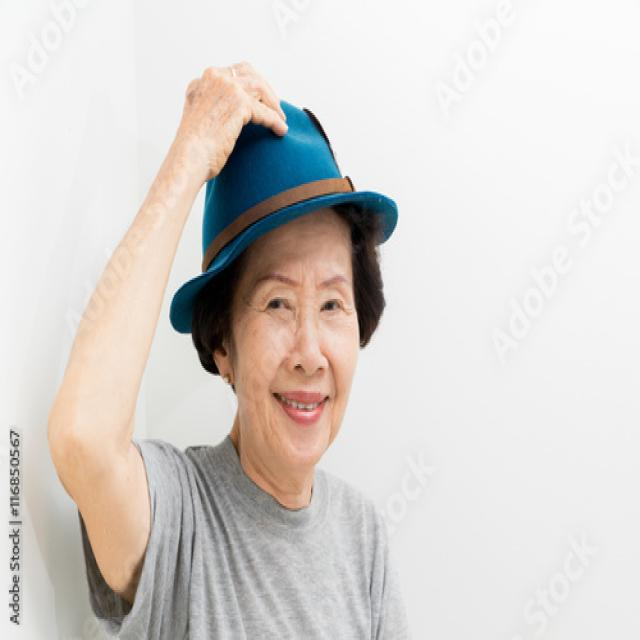hat: (167, 92, 400, 464)
